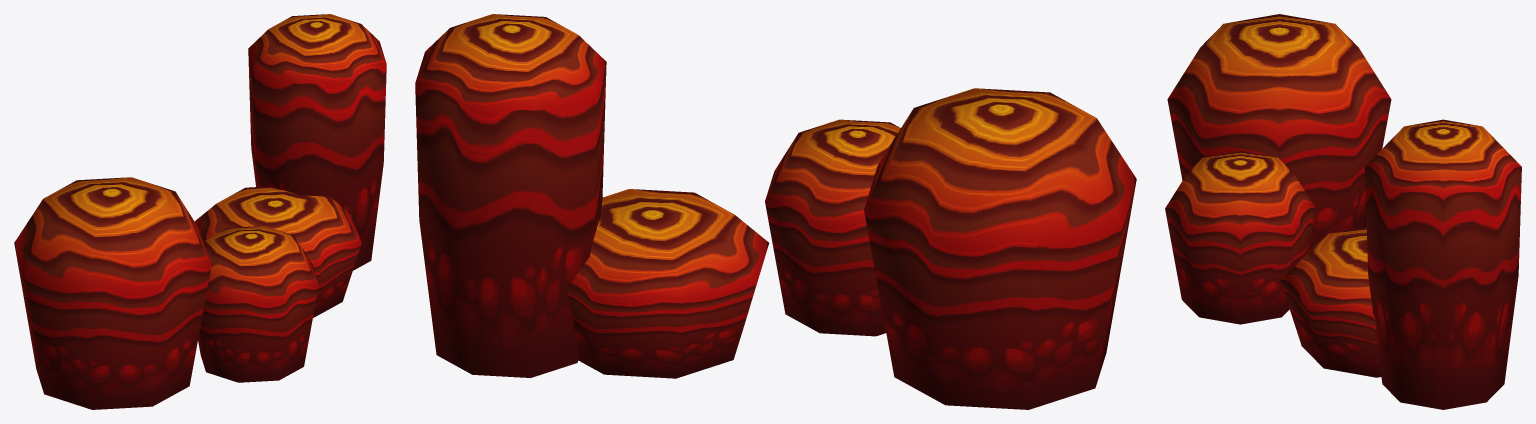
Rendered from Coral_29_Group.FBX.
The picture shows the model from 3 angles, left to right: view 1: azimuth 30°, elevation 25°; view 2: azimuth 150°, elevation 25°; view 3: azimuth 270°, elevation 25°; orthographic projection. The views are drawn at different scales.
Visible parts, largest first — view 1: Coral_29_Group; view 2: Coral_29_Group; view 3: Coral_29_Group.
Part boxes in pixels (x1,y1,x2,y2): Coral_29_Group: [14, 14, 386, 409]; Coral_29_Group: [415, 14, 1136, 409]; Coral_29_Group: [1165, 14, 1521, 409].
Size of the model in its own units: 106 by 54.76 by 69.85.
